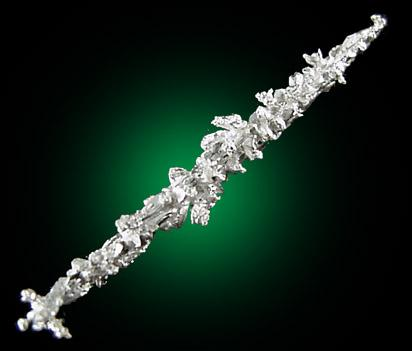silver: (18, 15, 387, 339)
